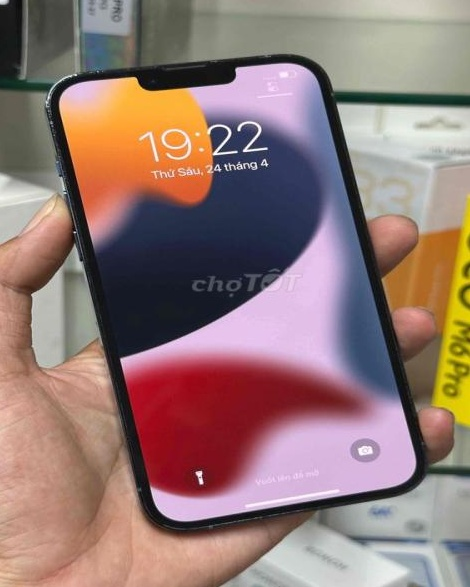scratch: (44, 54, 127, 185), (136, 497, 388, 535), (185, 48, 318, 77)
